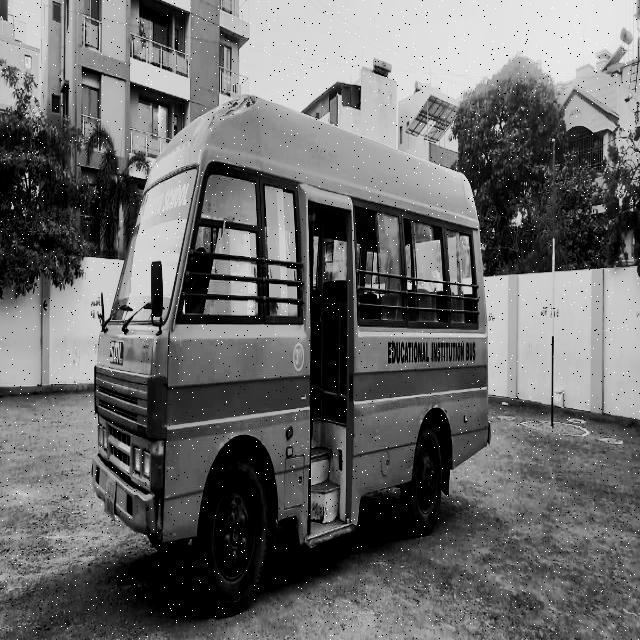Bus: (84, 88, 516, 621)
